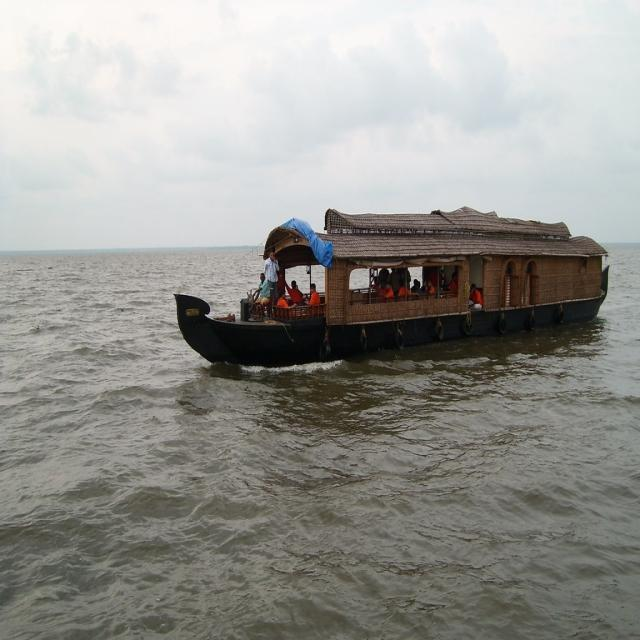boat: (166, 202, 610, 366)
